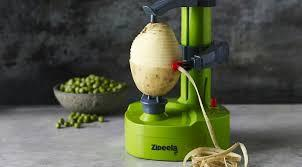Organic: (56, 69, 125, 137), (128, 14, 176, 90), (177, 122, 243, 167)
